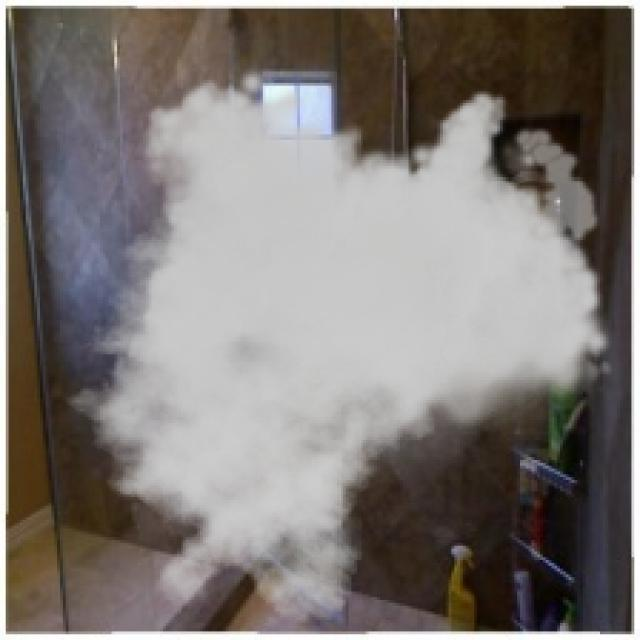Smoke: (46, 65, 614, 626)
